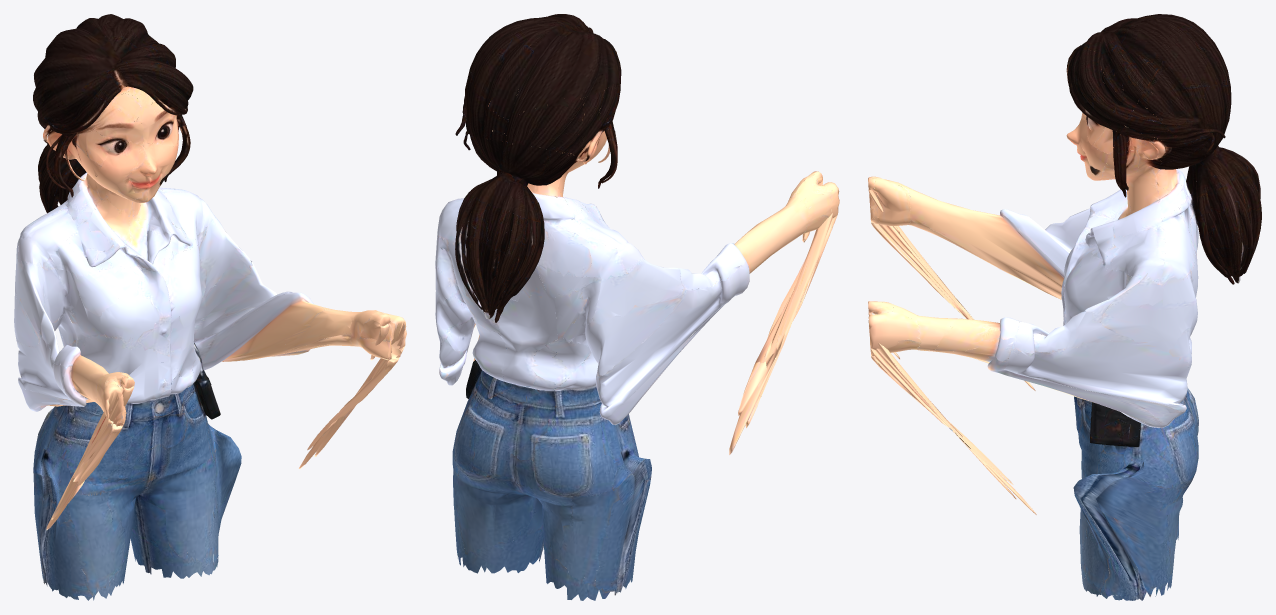
File: teacher-6-5.glb
3 renders of one model, left to right at view 1: azimuth 30°, elevation 25°; view 2: azimuth 150°, elevation 25°; view 3: azimuth 270°, elevation 25°, orthographic. The views are drawn at different scales.
Parts seen in each view (by area): view 1: teacher-6-5-운전자; view 2: teacher-6-5-운전자; view 3: teacher-6-5-운전자.
Part boxes in pixels (x1,y1,x2,y2): teacher-6-5-운전자: (14,14,406,600); teacher-6-5-운전자: (435,14,839,600); teacher-6-5-운전자: (868,14,1261,600).
Size of the model in its own units: 0.5527 by 0.9504 by 0.6291.
1 material, 1 textured.
